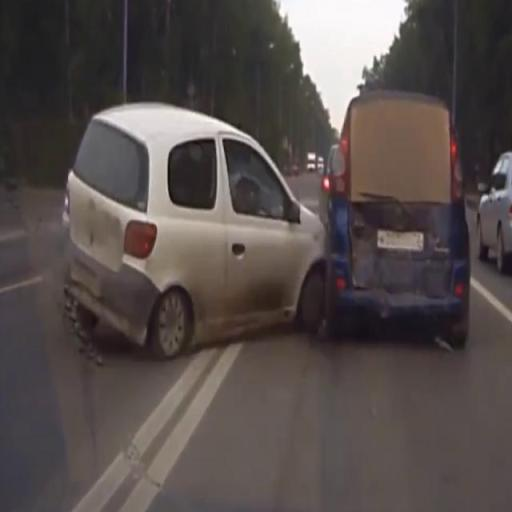小汽车: (473, 149, 512, 279)
小汽车撞小汽车: (61, 98, 470, 352)
